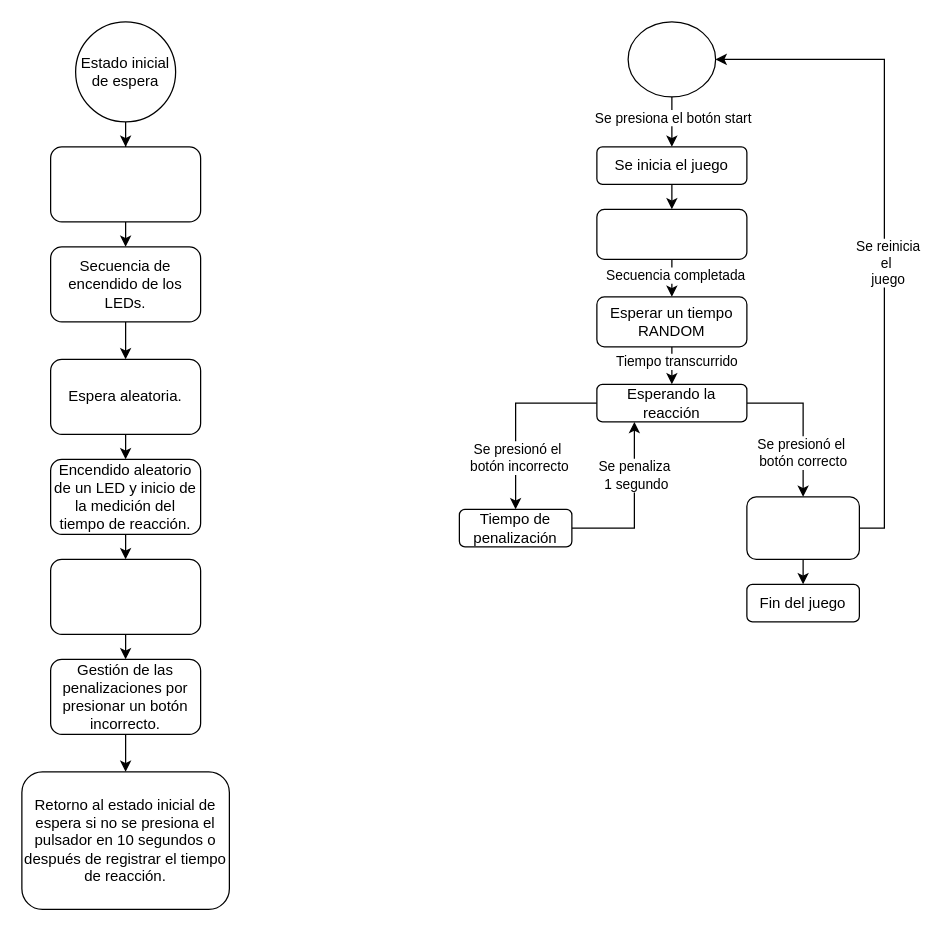
The diagram is 941 pixels wide and 931 high, and some of its shapes have lost their labels. Here are the shapes that lost their labels. From the top down, the centre of each, then its label:
point (671, 59): Esperando..
point (125, 184): Inicio del juego con el botón START
point (671, 233): Se empieza la secuencia de LED's
point (802, 527): Registrar el tiempo de reacción
point (125, 596): Registro del tiempo de reacción y visualización en los displays.
